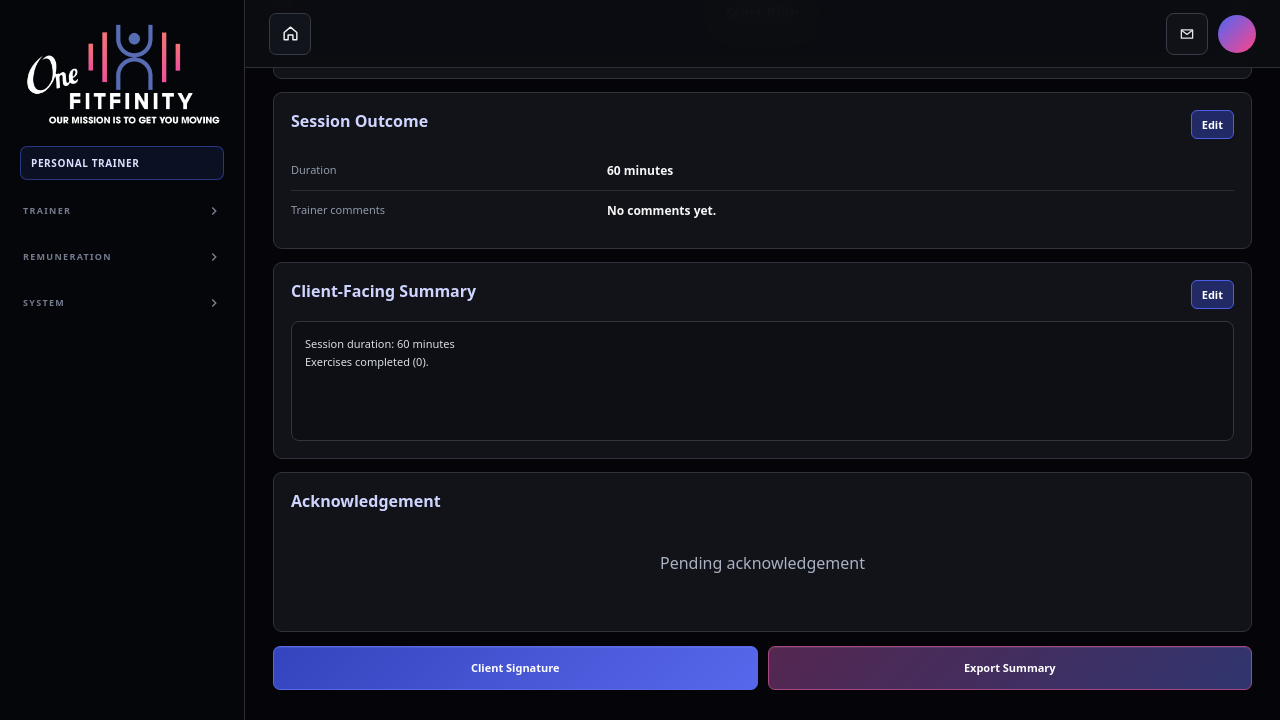
Test: session detail confirmations › acknowledgement finality warns that a no-show cannot be undone and permits cancelling confirmation
(page scrolled)
Click the button "Client Signature": (515, 668) x1=273 y1=646 x2=758 y2=690
(page scrolled)
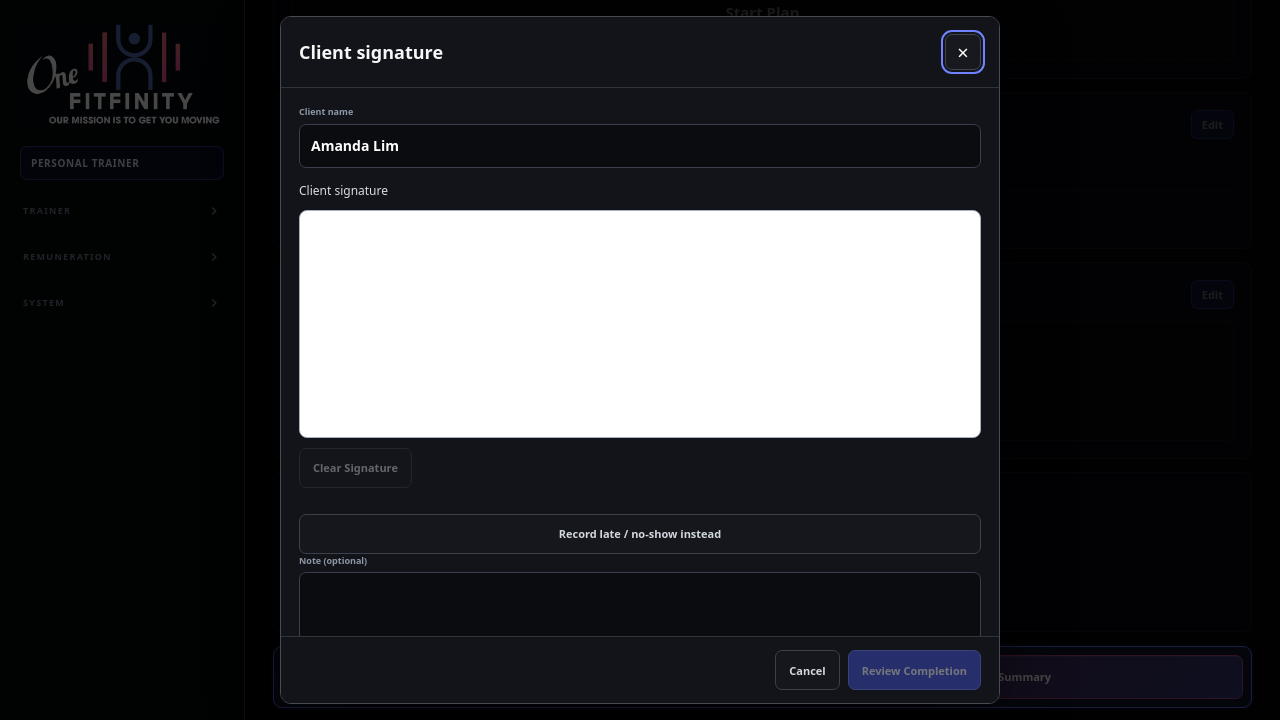
Click the button "Record late / no-show instead": (640, 534) x1=299 y1=514 x2=981 y2=554
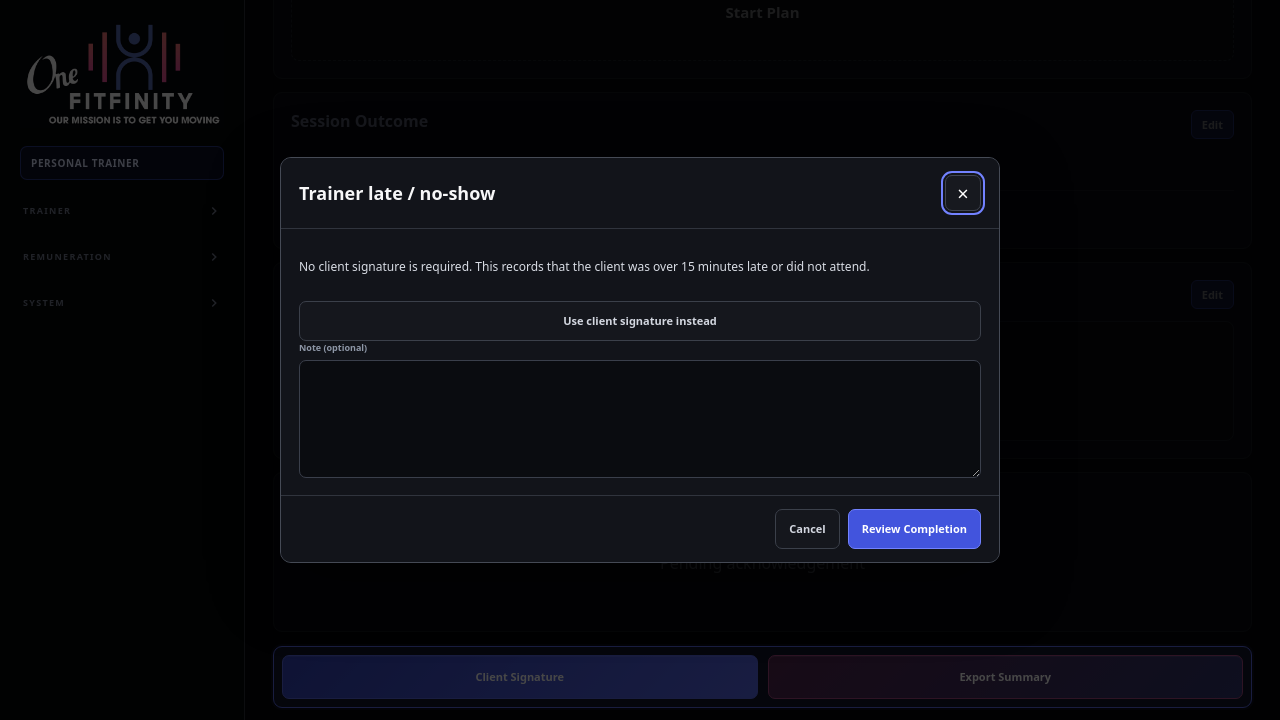
Click the button "Review Completion": (914, 529) x1=848 y1=509 x2=981 y2=549
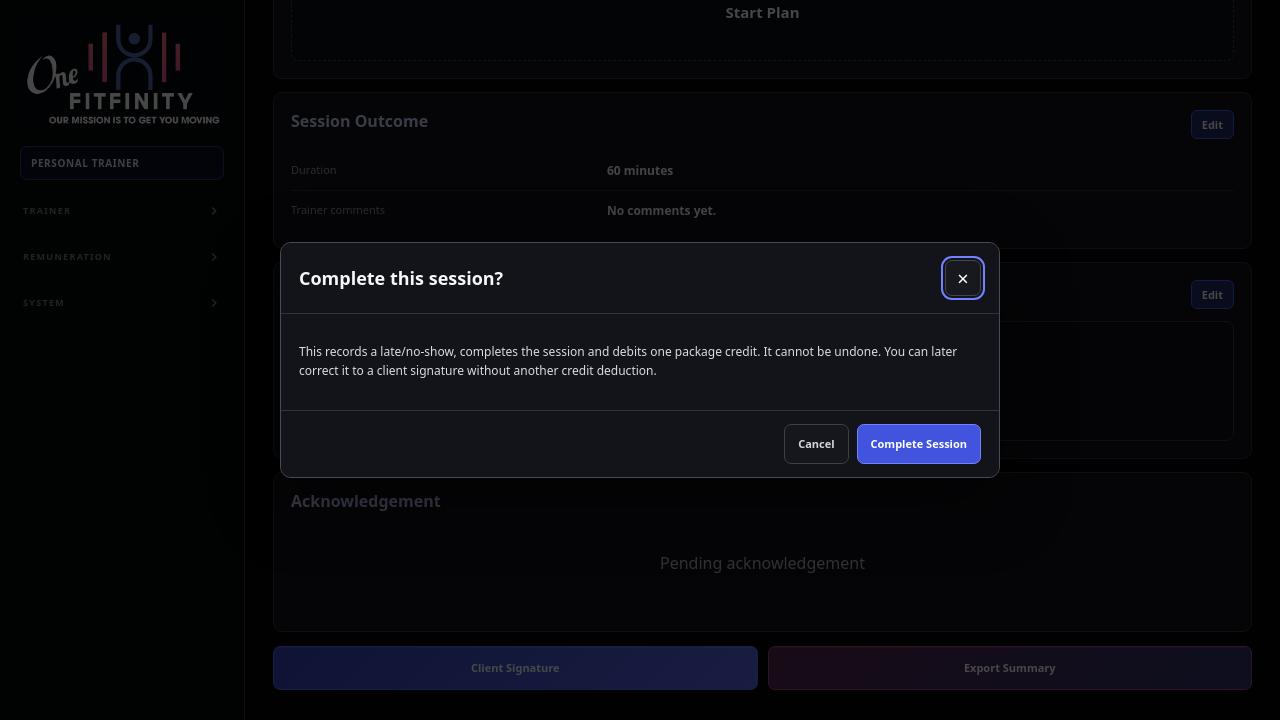
Expected: the dialog "Complete this session?" shows "It cannot be undone", x1=299 y1=343 x2=957 y2=379
Expected: the dialog "Complete this session?" shows "correct it to a client signature without another credit deduction", x1=299 y1=343 x2=957 y2=379
Click the button "Cancel": (816, 444) x1=784 y1=424 x2=848 y2=464
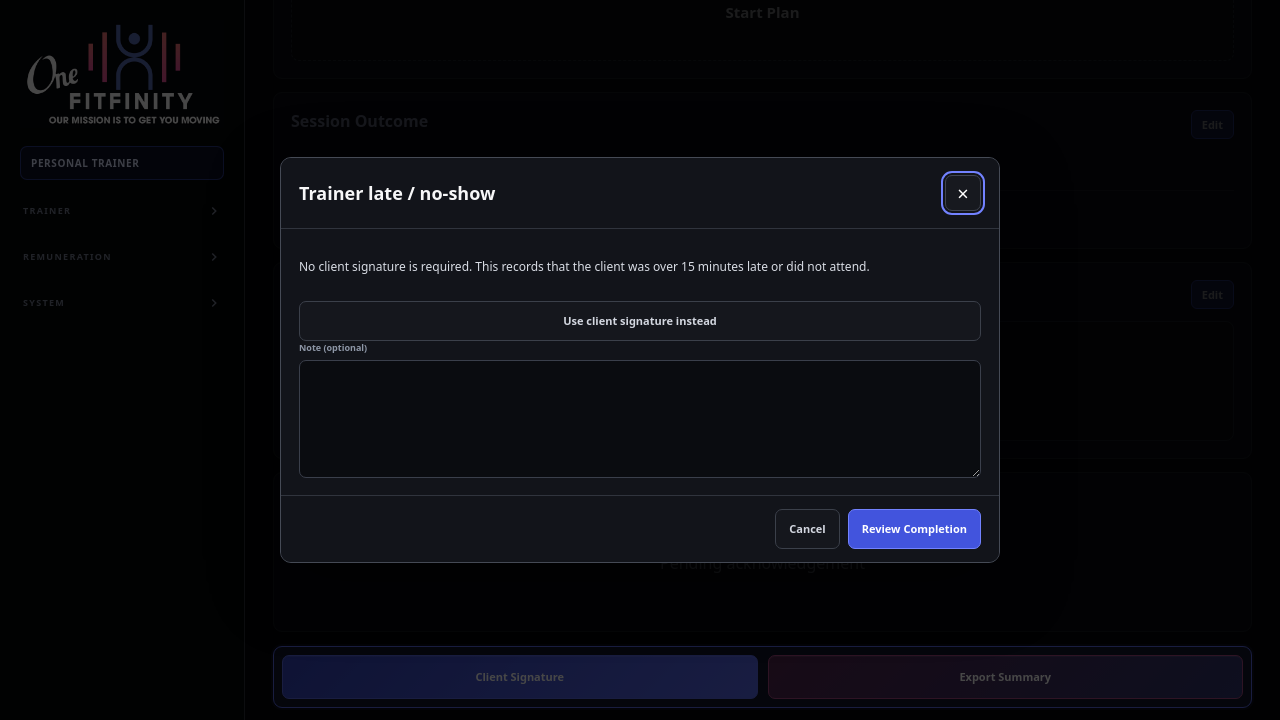
Expected: the dialog "Trainer late / no-show" is shown, x1=280 y1=157 x2=1000 y2=563
